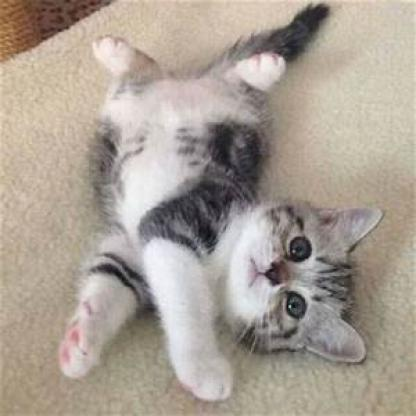cat: (56, 38, 368, 378)
